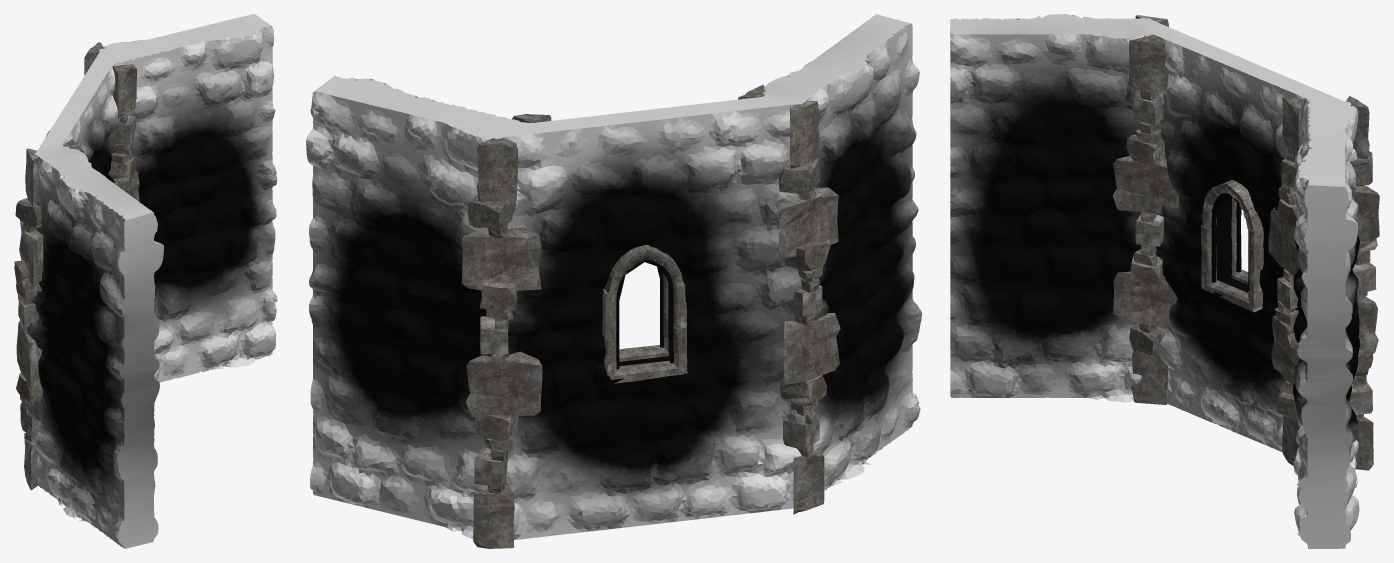
The model's file is SM_CastleTower_Window_A_07.fbx.
The picture shows the model from 3 angles, left to right: view 1: azimuth 30°, elevation 25°; view 2: azimuth 150°, elevation 25°; view 3: azimuth 270°, elevation 25°; orthographic projection. The views are drawn at different scales.
Visible parts, largest first — view 1: SM_CastleTower_Window_A_07_LOD0; view 2: SM_CastleTower_Window_A_07_LOD0; view 3: SM_CastleTower_Window_A_07_LOD0.
Part boxes in pixels (box(x1,y1,x2,y2)): SM_CastleTower_Window_A_07_LOD0: box(14, 14, 277, 548); SM_CastleTower_Window_A_07_LOD0: box(306, 14, 921, 548); SM_CastleTower_Window_A_07_LOD0: box(950, 14, 1379, 548).
Size of the model in its own units: 417 by 428 by 401.
